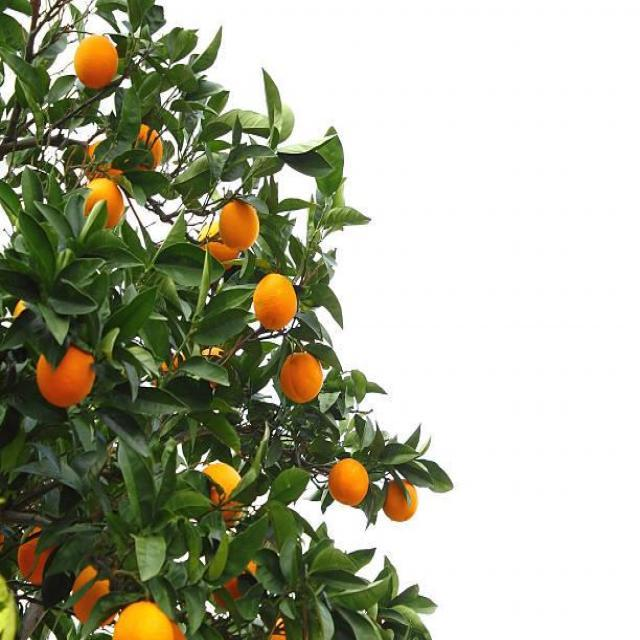Jeruk Sudah Matang: (188, 458, 262, 534), (37, 348, 94, 409), (112, 602, 185, 640), (252, 275, 296, 333), (74, 37, 118, 90), (83, 178, 124, 231), (280, 354, 323, 404), (220, 200, 259, 252), (329, 462, 368, 509)
